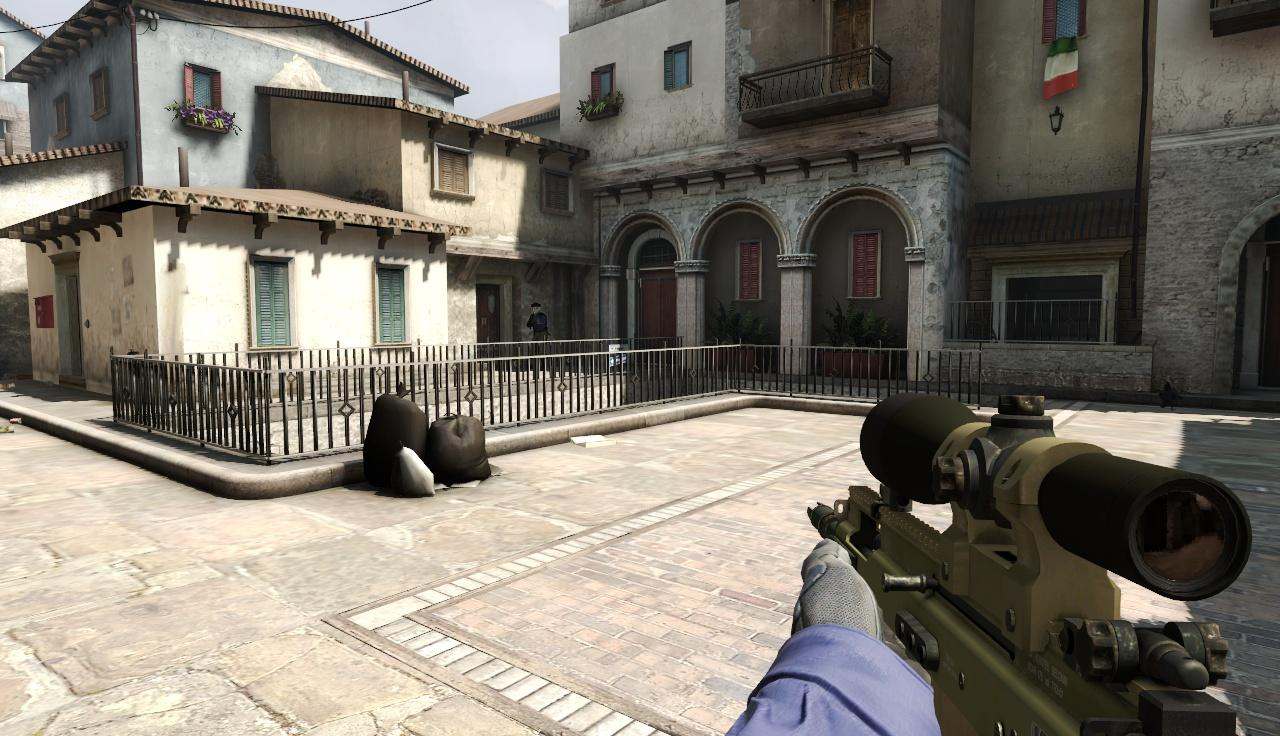sniper: (804, 389, 1247, 736)
tt: (527, 302, 549, 340)
tthead: (532, 302, 541, 314)
